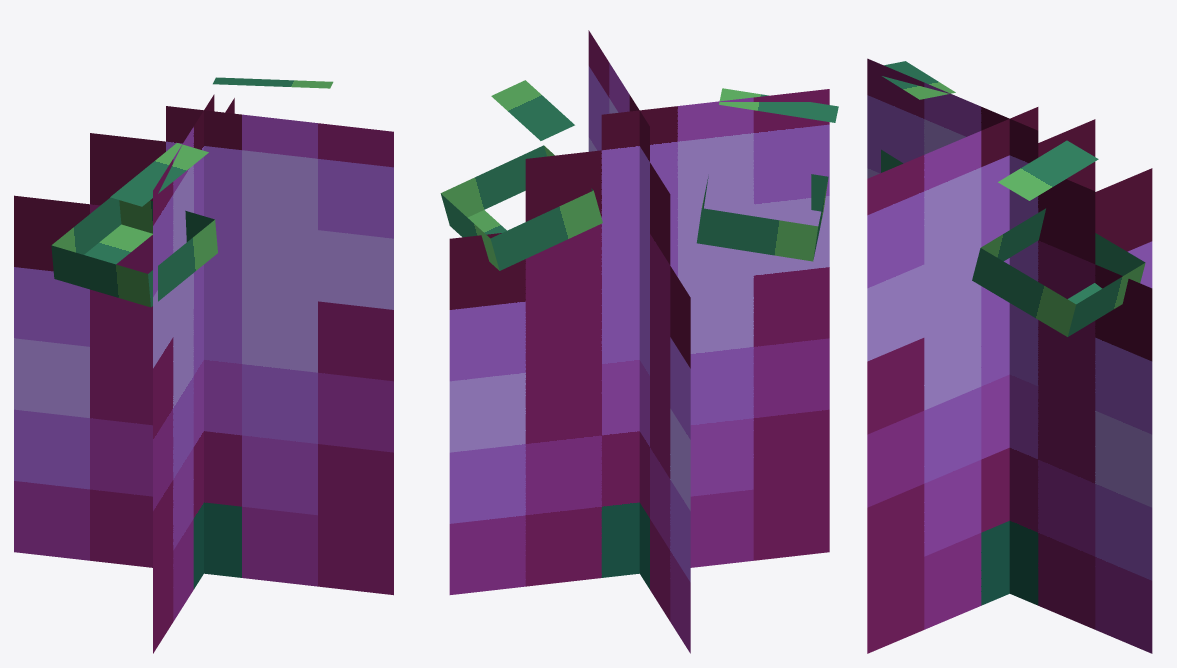
File: sullen_hydrangea_stage2.obj
3 views of the same model, side by side, from view 1: azimuth 30°, elevation 25°; view 2: azimuth 150°, elevation 25°; view 3: azimuth 270°, elevation 25° (orthographic). The views are drawn at different scales.
Visible parts, largest first — view 1: cube_1, cube_0, cube_4, cube_3; view 2: cube_0, cube_1, cube_3, cube_4; view 3: cube_1, cube_0, cube_3, cube_4.
Part boxes in pixels (left/top/right/bottom): cube_1: left=14, top=106, right=393, bottom=595; cube_0: left=153, top=94, right=234, bottom=653; cube_4: left=51, top=143, right=217, bottom=307; cube_3: left=213, top=77, right=333, bottom=88; cube_0: left=449, top=89, right=829, bottom=594; cube_1: left=588, top=30, right=690, bottom=653; cube_3: left=440, top=80, right=602, bottom=270; cube_4: left=696, top=88, right=838, bottom=261; cube_1: left=867, top=107, right=1152, bottom=653; cube_0: left=867, top=58, right=1152, bottom=653; cube_3: left=972, top=140, right=1145, bottom=336; cube_4: left=881, top=61, right=955, bottom=172.
Size of the model in its own units: 0.6432 by 0.9457 by 0.458.
